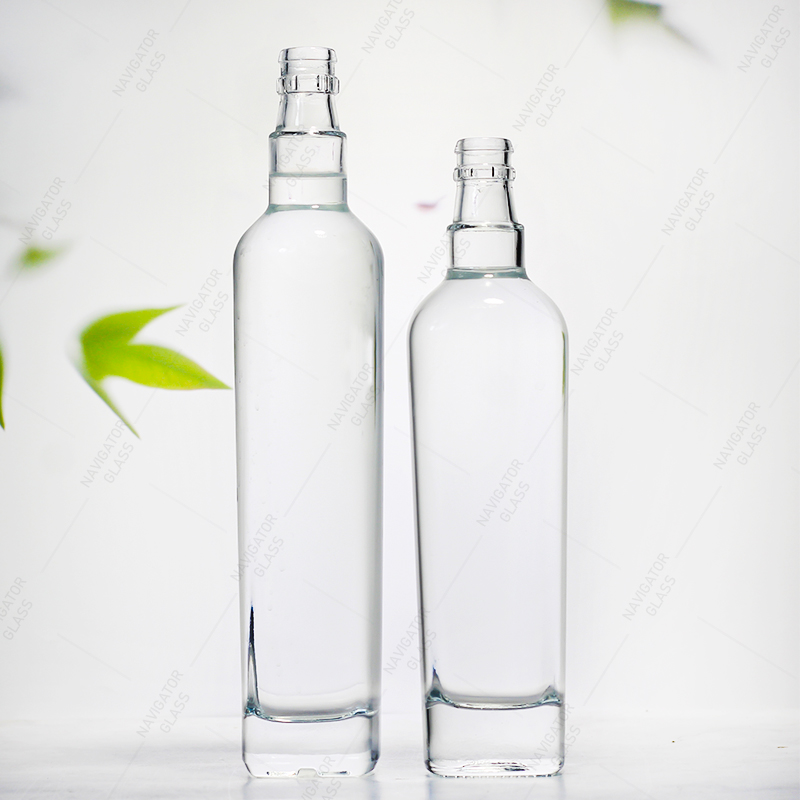glass_bottle: (219, 34, 393, 791), (402, 127, 588, 790)
